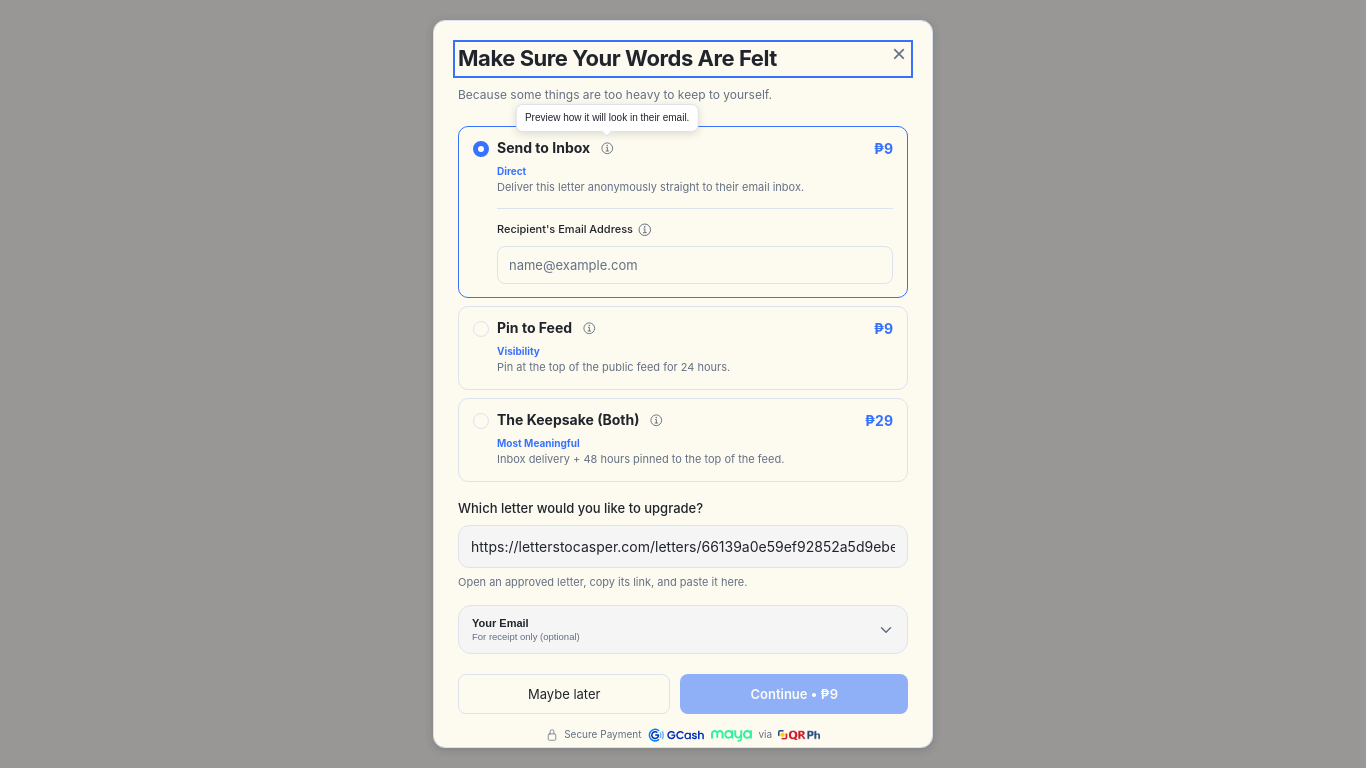
Test: explains each upgrade and the featured-letter criteria
Check: the button with aria-label "Learn more about Send to Inbox" is shown, box [598,140,616,158]
Check: the button named "Learn more about The Keepsake (Both)" is shown, box [648,412,666,430]
Click the button named "Learn more about Pin to Feed": (589, 329) [580,320,598,338]
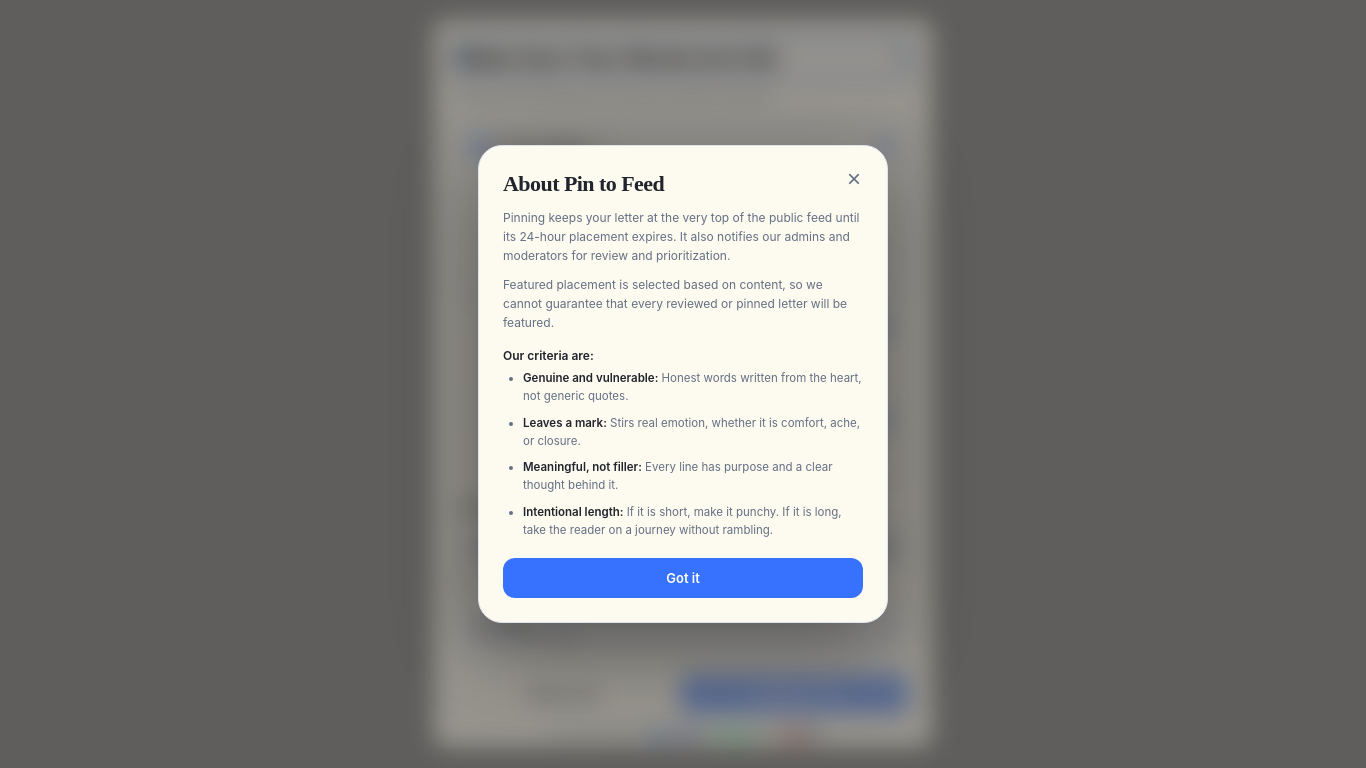
Check: the dialog "About Pin to Feed" shows "very top of the public feed", box [503,210,860,263]
Check: the dialog "About Pin to Feed" shows "cannot guarantee", box [503,276,847,330]
Check: the dialog "About Pin to Feed" shows "Genuine and vulnerable", box [523,371,658,385]
Click the button named "Close featured letters guide": (854, 179) [839,164,869,194]
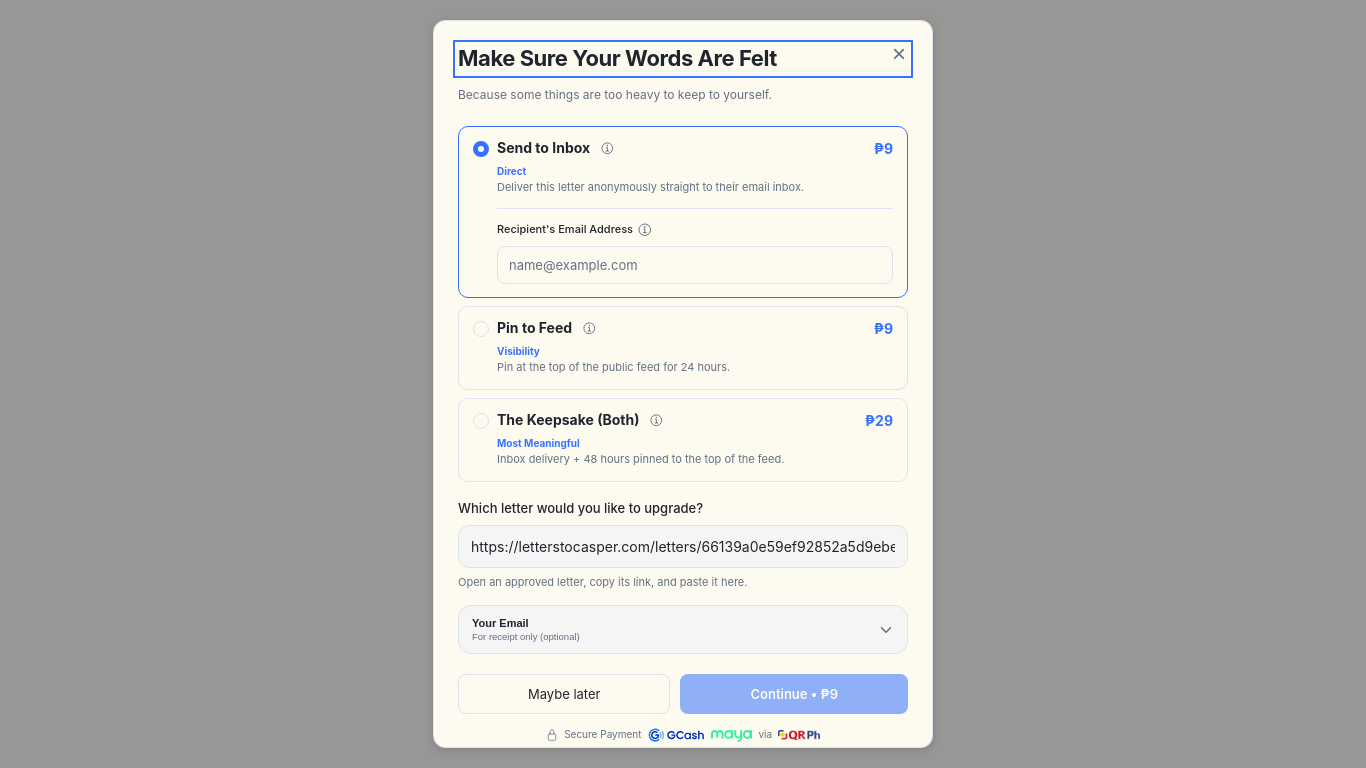
Check: the heading "About Pin to Feed" is gone
Click the button named "Learn more about Send to Inbox": (607, 149) [598,140,616,158]
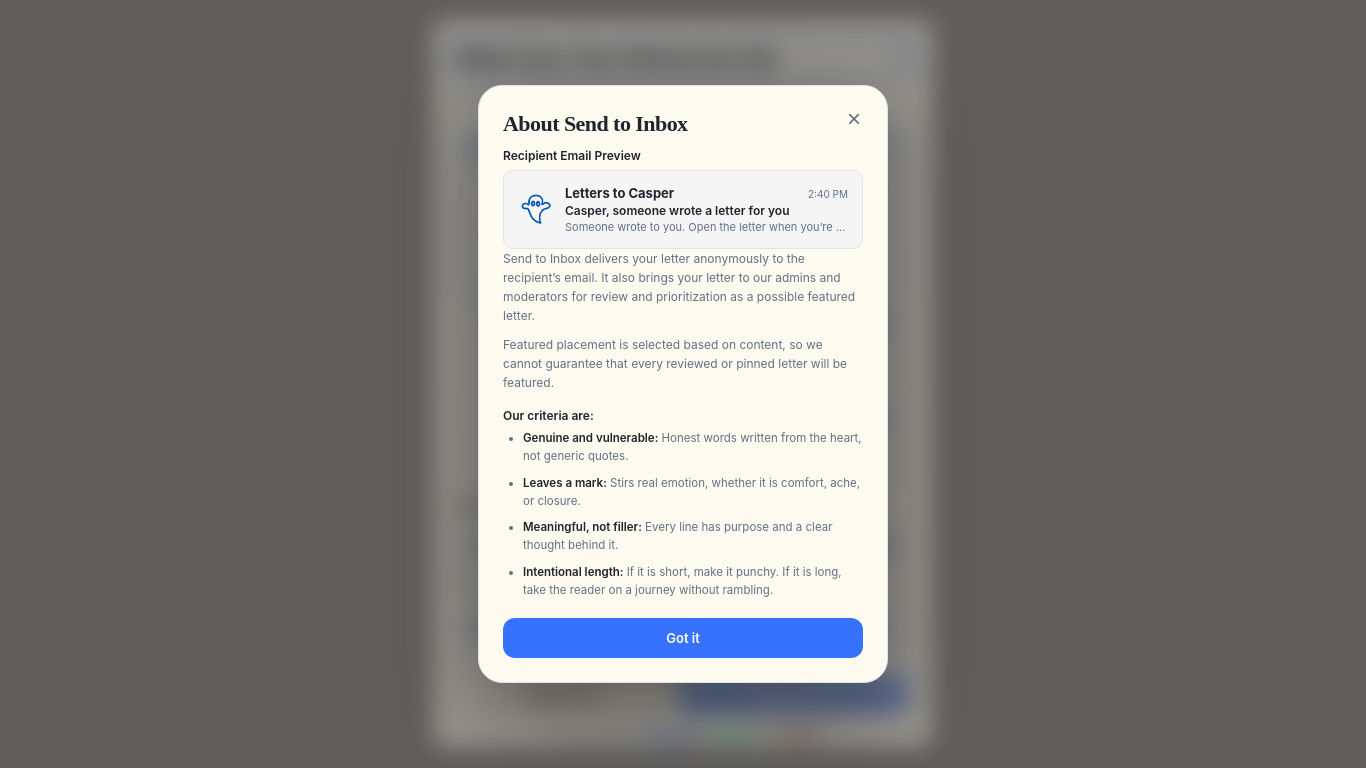
Check: the dialog "About Send to Inbox" shows "Recipient Email Preview", box [503,148,641,163]
Check: the dialog "About Send to Inbox" shows "Casper, someone wrote a letter for you", box [478,85,888,683]
Click the button named "Close featured letters guide": (854, 119) [839,104,869,134]
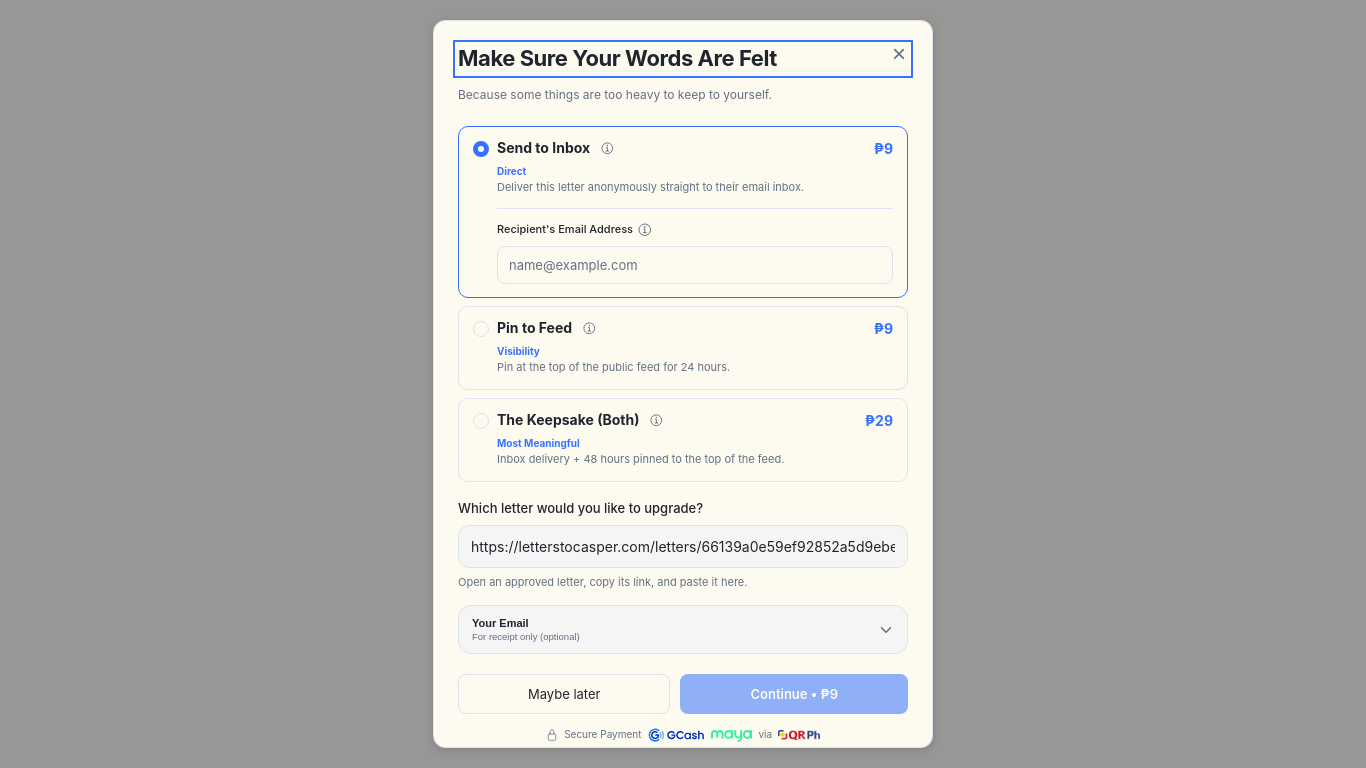
Click the button named "Learn more about The Keepsake (Both)": (656, 421) [648,412,666,430]
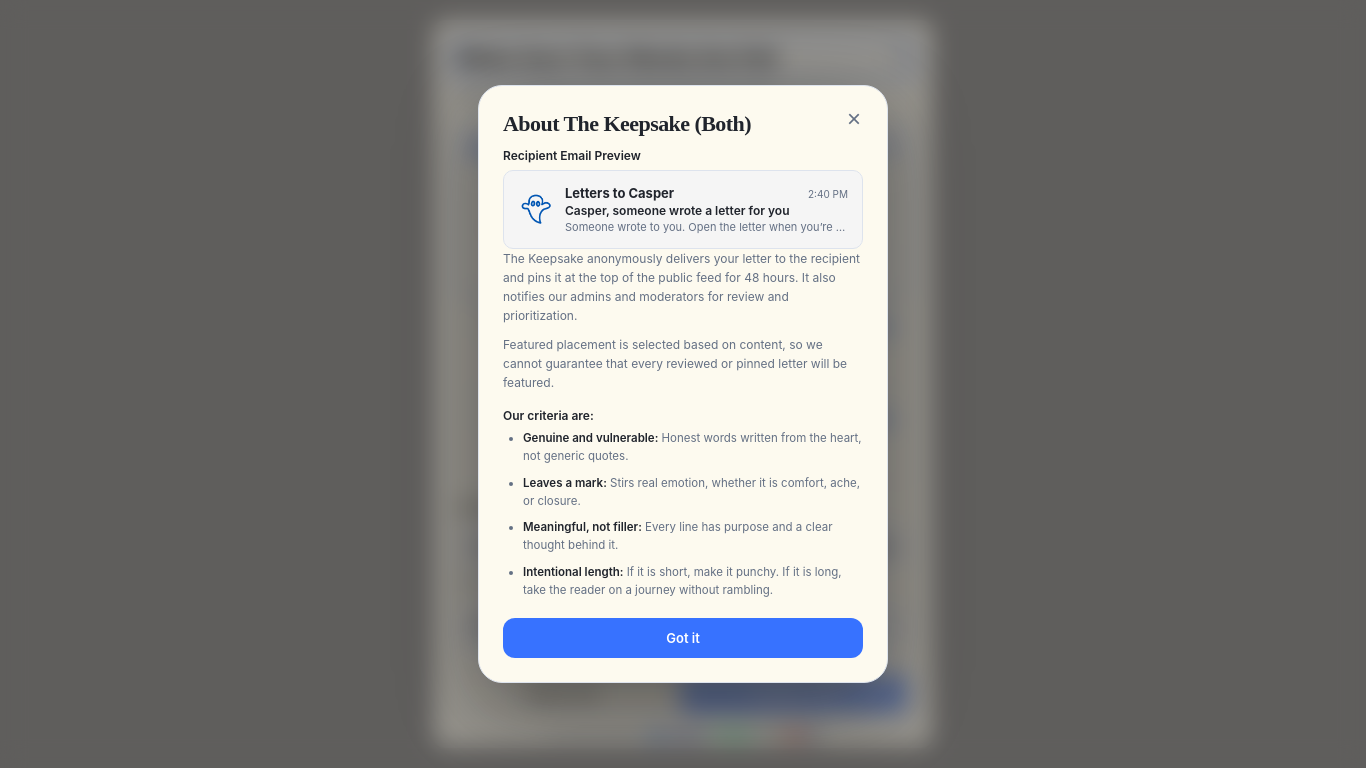
Check: the dialog "About The Keepsake (Both)" shows "Recipient Email Preview", box [503,148,641,163]
Check: the dialog "About The Keepsake (Both)" shows "Casper, someone wrote a letter for you", box [478,85,888,683]
